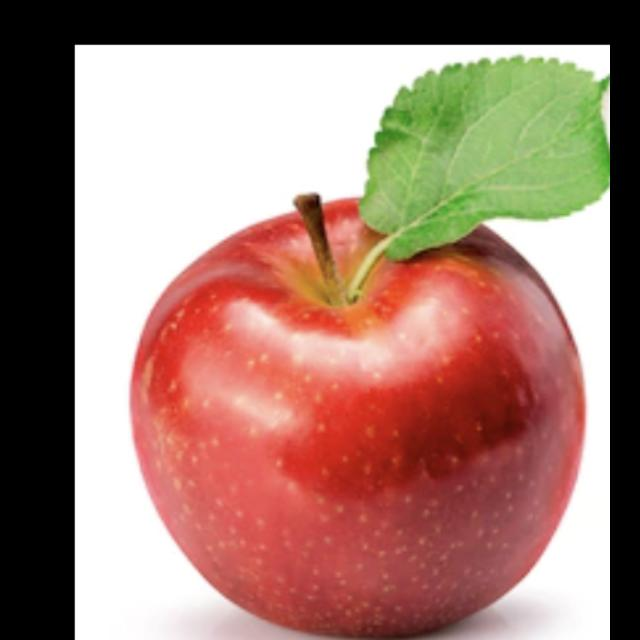Apel Segar: (112, 191, 582, 639)
